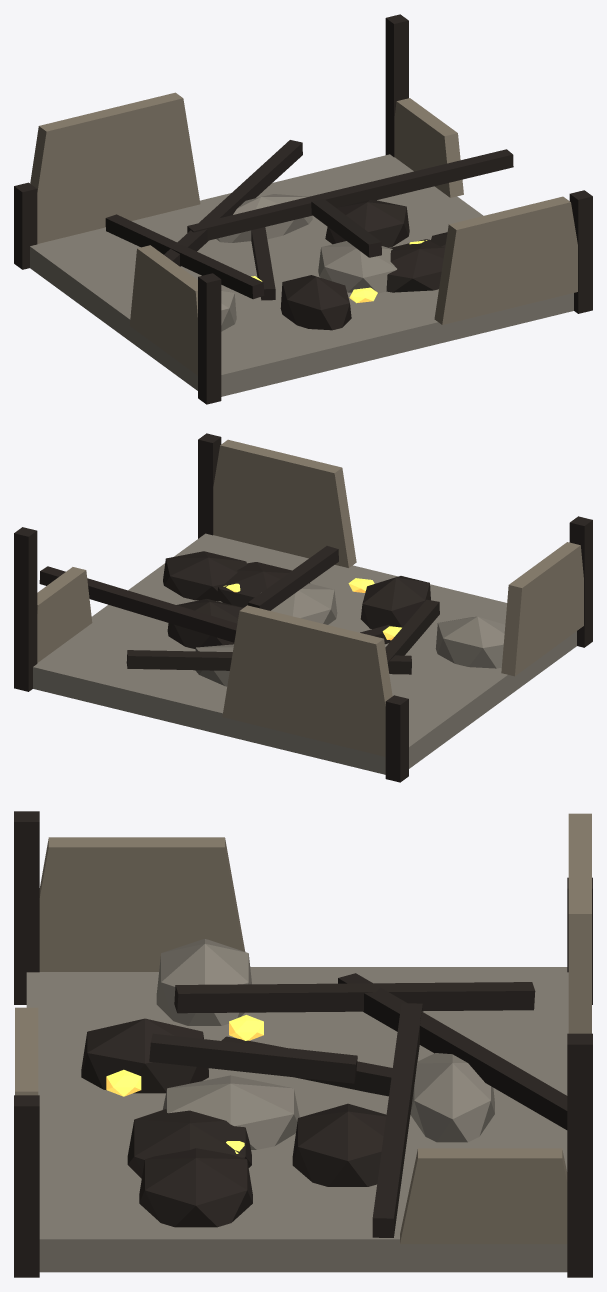
Rendered from Dorf_Schmiede_Ruine.fbx.
The picture shows the model from 3 angles, top to bottom: view 1: azimuth 30°, elevation 25°; view 2: azimuth 150°, elevation 25°; view 3: azimuth 270°, elevation 25°; orthographic projection. The views are drawn at different scales.
Parts seen in each view (by area): view 1: Dorf_Schmiede_Ruine; view 2: Dorf_Schmiede_Ruine; view 3: Dorf_Schmiede_Ruine.
Part boxes in pixels (bbox=[...]): Dorf_Schmiede_Ruine: bbox=[14, 14, 592, 404]; Dorf_Schmiede_Ruine: bbox=[14, 433, 592, 782]; Dorf_Schmiede_Ruine: bbox=[14, 811, 592, 1277].
Size of the model in its own units: 6.96 by 2.5 by 5.44.
